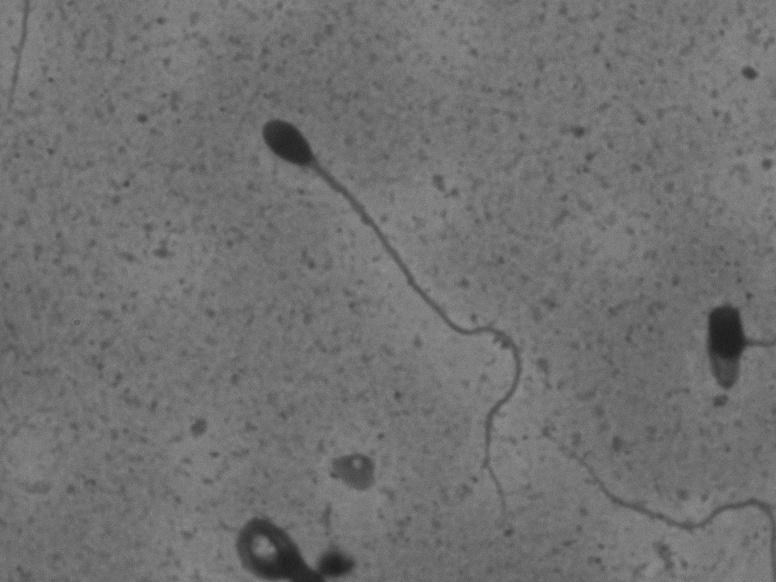Normal: (239, 94, 565, 511)
